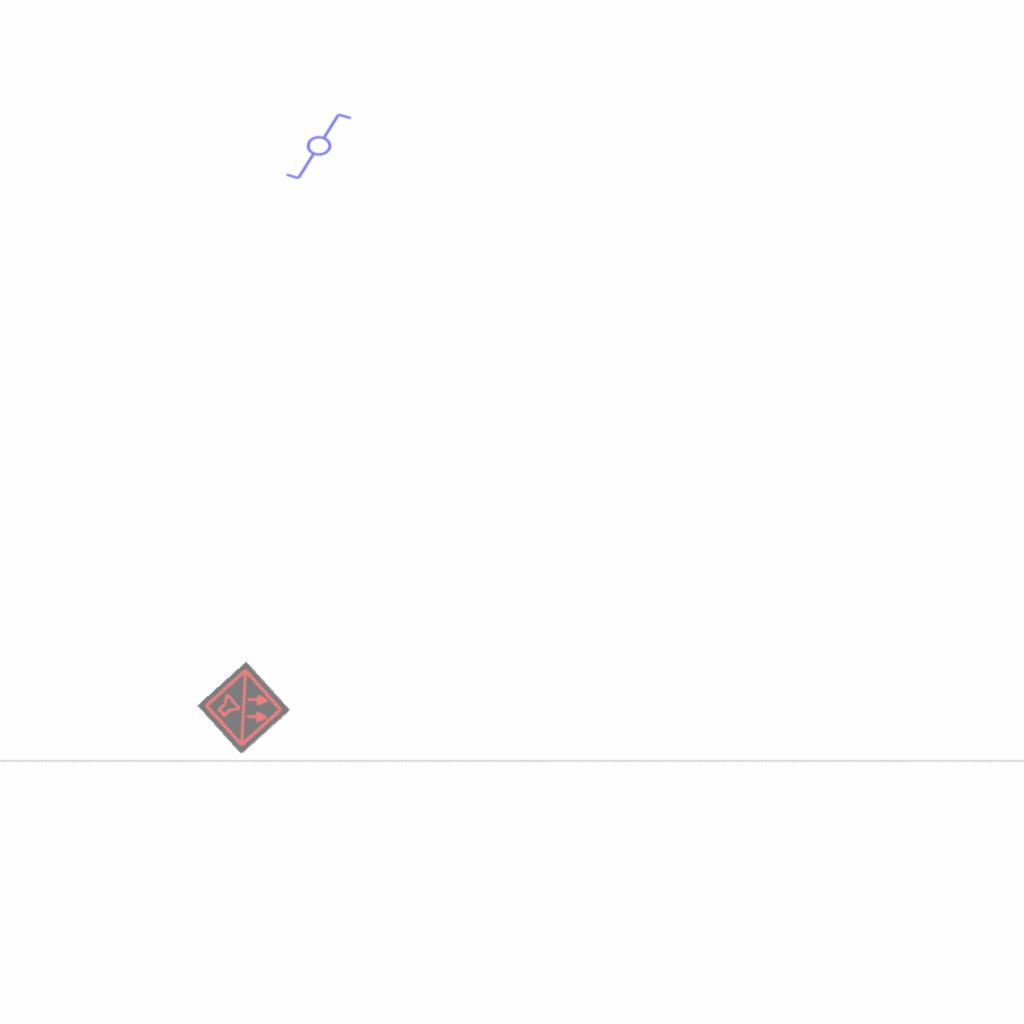OKW_Multisensormelder_(Kombination_optischer_Rauch-Kahlenmonoxid_Waerme-Melder): (197, 661, 291, 755)
Wechselschalter: (284, 111, 362, 183)
